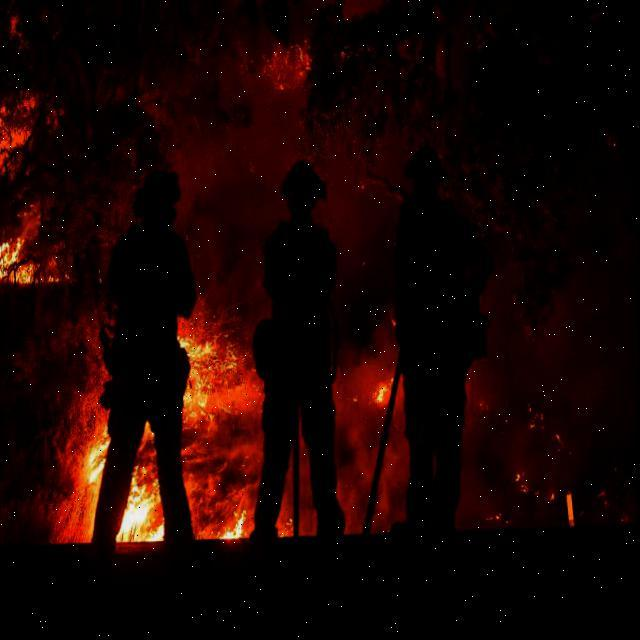Fire: (86, 322, 262, 547), (0, 223, 82, 284)
